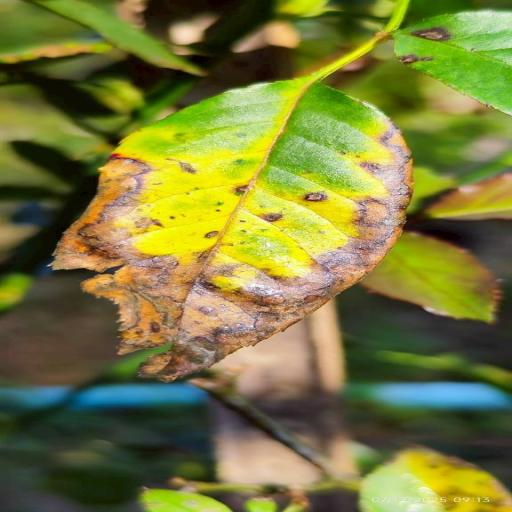thrip: (55, 32, 411, 381)
